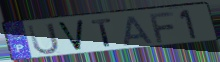1: (178, 8, 200, 41)
A: (123, 14, 156, 47)
F: (148, 11, 177, 44)
T: (90, 18, 114, 49)
U: (26, 22, 61, 56)
V: (55, 19, 86, 53)
